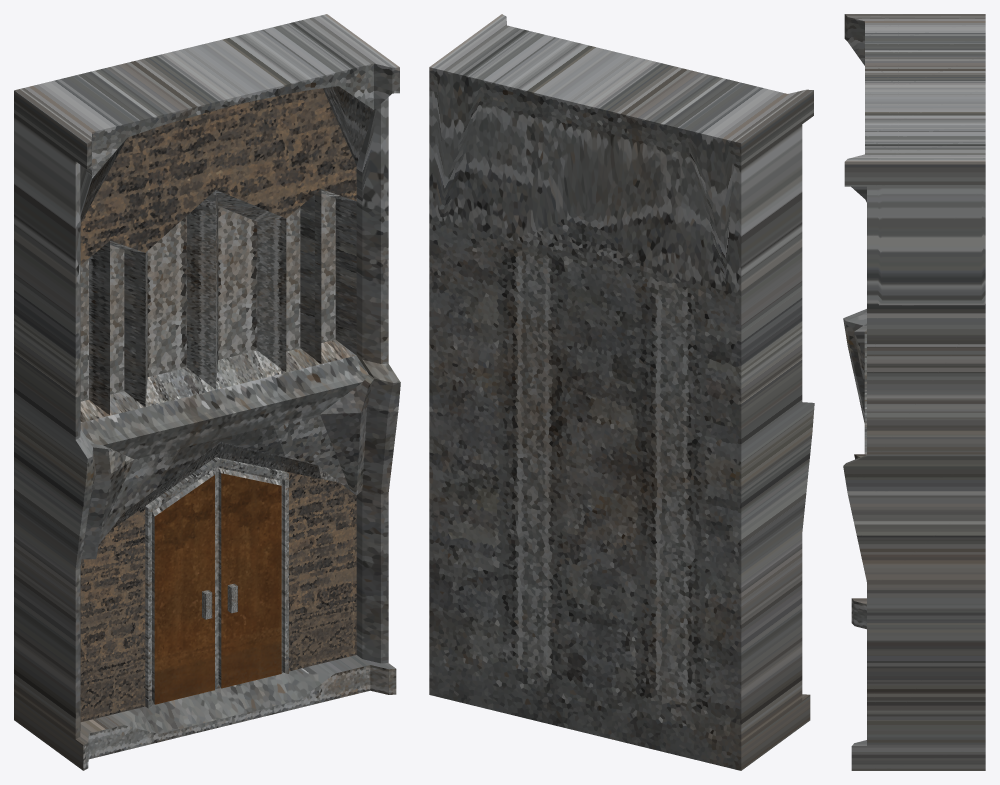
Rendered from SM_WallDoor.fbx.
The picture shows the model from 3 angles, left to right: view 1: azimuth 30°, elevation 25°; view 2: azimuth 150°, elevation 25°; view 3: azimuth 270°, elevation 25°; orthographic projection. The views are drawn at different scales.
Visible parts, largest first — view 1: SM_WallDoor; view 2: SM_WallDoor; view 3: SM_WallDoor.
Boxes of the visible parts, x1,y1,x2,y2 form: SM_WallDoor: (14, 14, 400, 770); SM_WallDoor: (429, 14, 814, 770); SM_WallDoor: (843, 14, 985, 770).
Bounding box in the file's own units: 400 × 769 × 163.
